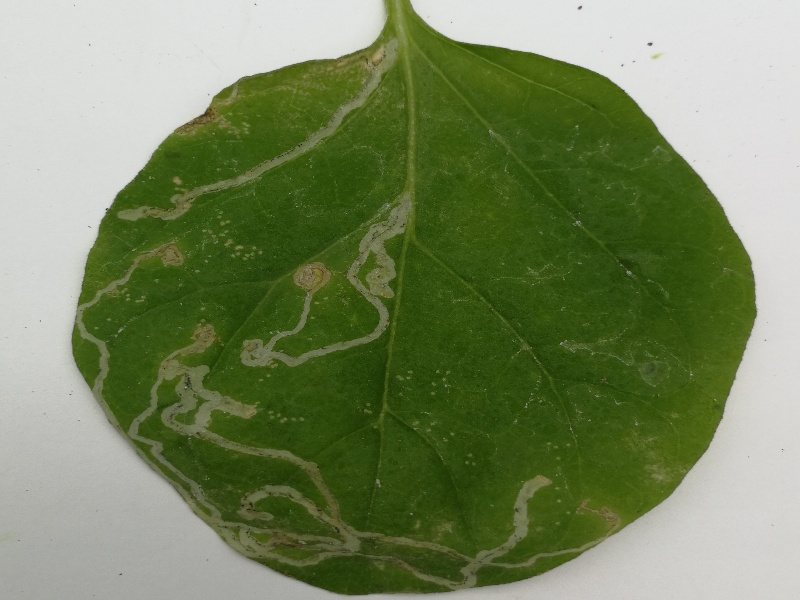leafminer: (114, 320, 620, 575), (112, 27, 401, 224), (234, 182, 422, 376), (73, 232, 188, 436)
